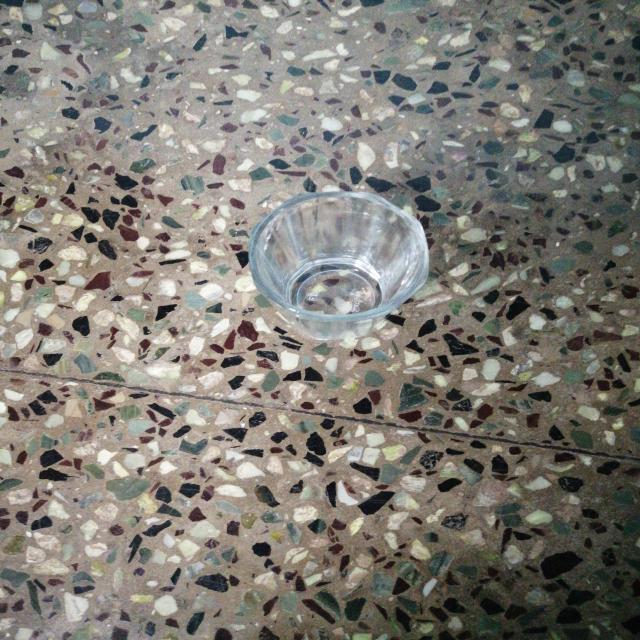Glass: (244, 187, 435, 342)
